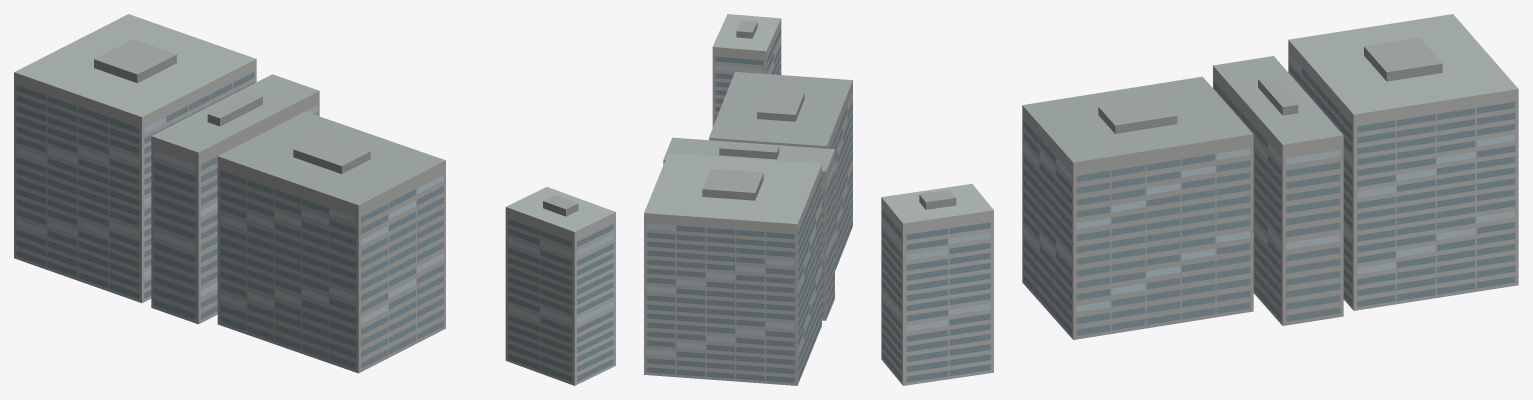
The model's file is apt-a13707203.glb.
3 renders of one model, left to right at view 1: azimuth 30°, elevation 25°; view 2: azimuth 150°, elevation 25°; view 3: azimuth 270°, elevation 25°, orthographic. The views are drawn at different scales.
Parts seen in each view (by area): view 1: apt-a13707203; view 2: apt-a13707203; view 3: apt-a13707203.
Part boxes in pixels (x1,y1,x2,y2): apt-a13707203: (14, 14, 615, 385); apt-a13707203: (644, 14, 852, 385); apt-a13707203: (881, 14, 1518, 385).
Size of the model in its own units: 95.3 by 52 by 146.
